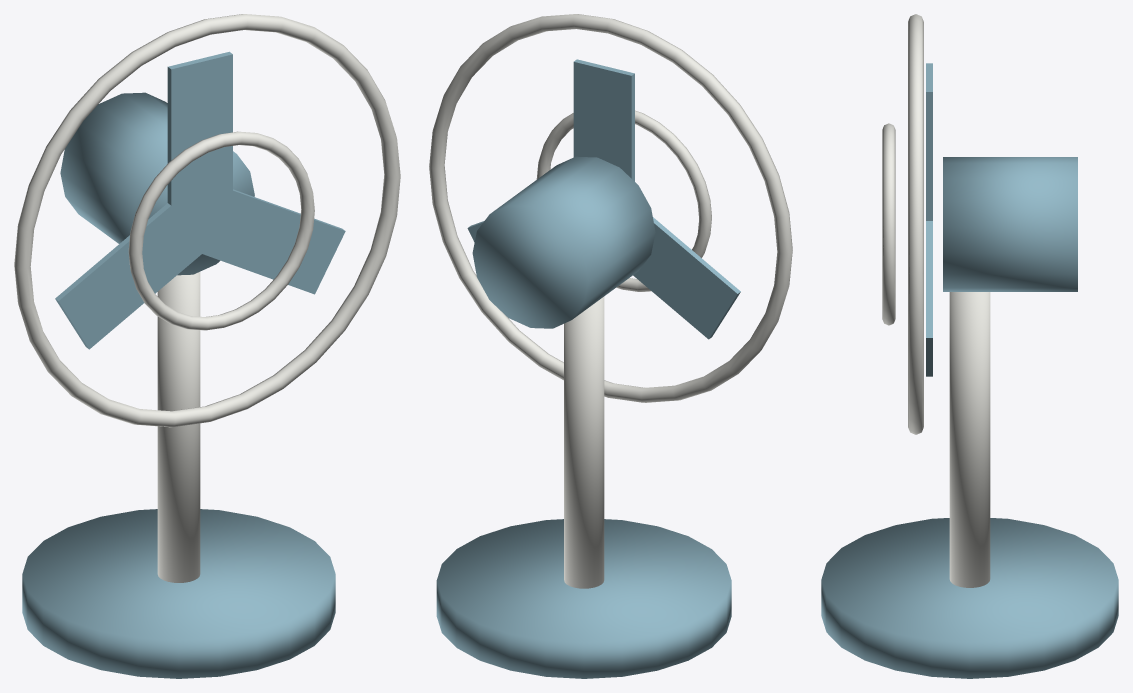
Rendered from desk_fan.glb.
3 renders of one model, left to right at view 1: azimuth 30°, elevation 25°; view 2: azimuth 150°, elevation 25°; view 3: azimuth 270°, elevation 25°, orthographic. The views are drawn at different scales.
Parts seen in each view (by area): view 1: desk_fan; view 2: desk_fan; view 3: desk_fan.
Boxes of the visible parts, x1,y1,x2,y2 form: desk_fan: (14, 14, 400, 678); desk_fan: (429, 14, 792, 678); desk_fan: (821, 14, 1118, 678).
Size of the model in its own units: 0.312 by 0.476 by 0.22.
